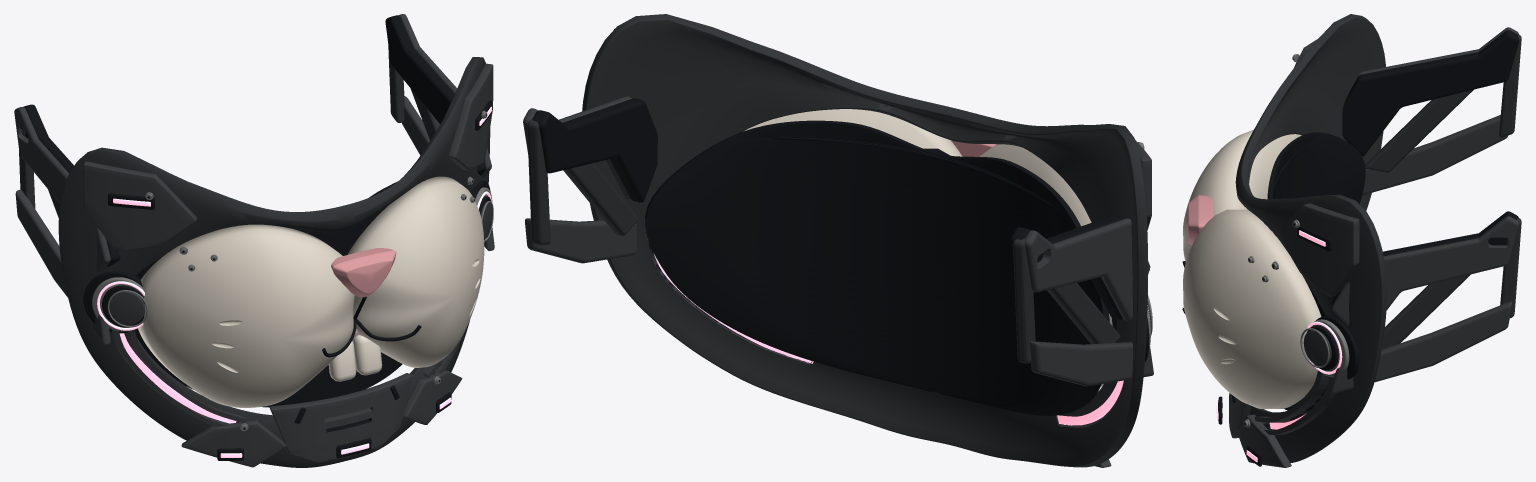
File: mask-rabbit-04.glb
3 views of the same model, side by side, from view 1: azimuth 30°, elevation 25°; view 2: azimuth 150°, elevation 25°; view 3: azimuth 270°, elevation 25° (orthographic). The views are drawn at different scales.
Visible parts, largest first — view 1: Left ivory cheek, Charcoal continuous facial frame, Right ivory cheek, Rounded chin armor, Left front upper armor, Inner face backing, Right upper side underlay, Right front upper armor, Left lower armor cap, Left upper side armor, Left lower side armor, Soft pink triangular nose (+13 smaller); view 2: Inner face backing, Charcoal continuous facial frame, Right upper side underlay, Left upper side armor, Left lower side armor, Right lower side armor, Right ivory cheek, Right inner diagonal brace, Right rear mounting post, Left inner diagonal brace, Left rear mounting post, Left ivory cheek (+3 smaller); view 3: Charcoal continuous facial frame, Right ivory cheek, Left upper side underlay, Right upper side armor, Inner face backing, Right front upper armor, Right lower side armor, Left ivory cheek, Left lower side armor, Left inner diagonal brace, Right inner diagonal brace, Right cheek light recessed channel (+12 smaller).
Boxes of the visible parts, x1,y1,x2,y2 form: Left ivory cheek: (138,224,354,407); Charcoal continuous facial frame: (58,57,490,467); Right ivory cheek: (347,176,484,367); Rounded chin armor: (269,373,412,463); Left front upper armor: (83,161,196,251); Inner face backing: (135,181,402,407); Right upper side underlay: (385,15,485,175); Right front upper armor: (448,63,493,170); Left lower armor cap: (181,420,286,467); Left upper side armor: (14,107,110,272); Left lower side armor: (15,189,110,344); Soft pink triangular nose: (331,248,396,297); Inner face backing: (645,120,1109,415); Charcoal continuous facial frame: (582,14,1147,467); Right upper side underlay: (532,98,657,202); Left upper side armor: (1024,218,1150,321); Left lower side armor: (1030,341,1153,386); Right lower side armor: (525,218,636,263); Right ivory cheek: (743,109,962,156); Right inner diagonal brace: (563,163,638,235); Right rear mounting post: (527,118,550,245); Left inner diagonal brace: (1047,283,1120,344); Left rear mounting post: (1013,238,1035,363); Left ivory cheek: (979,144,1112,387); Charcoal continuous facial frame: (1235,14,1386,462); Right ivory cheek: (1183,209,1321,408); Left upper side underlay: (1342,30,1519,156); Right upper side armor: (1332,216,1519,326); Inner face backing: (1267,132,1365,410); Right front upper armor: (1278,203,1359,296); Right lower side armor: (1330,301,1511,394); Left ivory cheek: (1183,129,1301,262); Left lower side armor: (1362,115,1508,195); Left inner diagonal brace: (1365,89,1473,172); Right inner diagonal brace: (1381,274,1470,349); Right cheek light recessed channel: (1254,370,1335,434).
Size of the model in its own units: 2.76 by 1.95 by 1.85.
